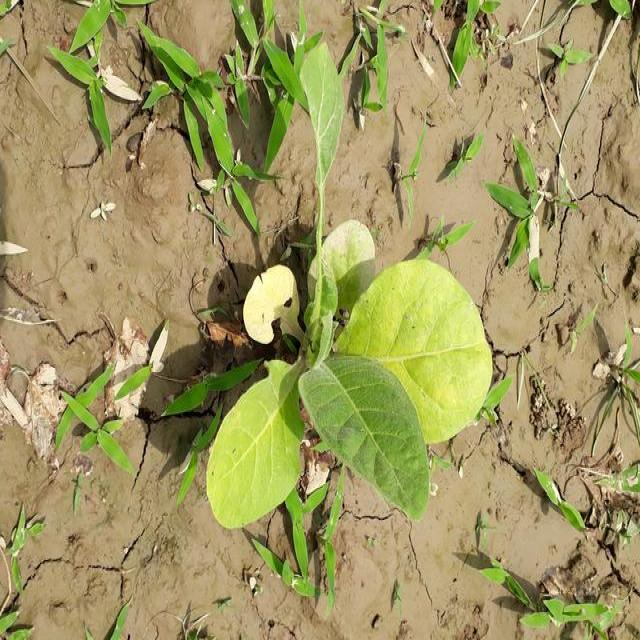crop: (210, 238, 490, 540)
